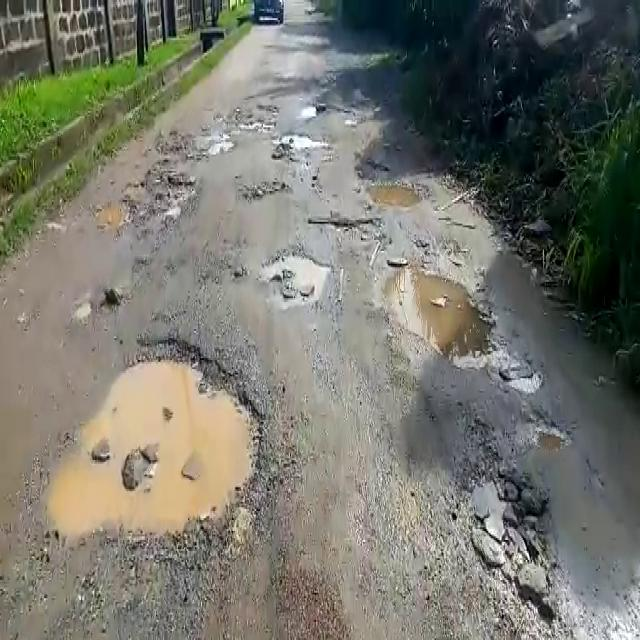Pothole: (40, 333, 274, 557), (376, 260, 498, 363), (98, 169, 197, 235), (264, 247, 328, 306), (515, 407, 571, 455), (359, 173, 423, 210), (306, 214, 384, 240), (495, 365, 544, 395), (236, 177, 290, 200), (274, 131, 327, 151)
